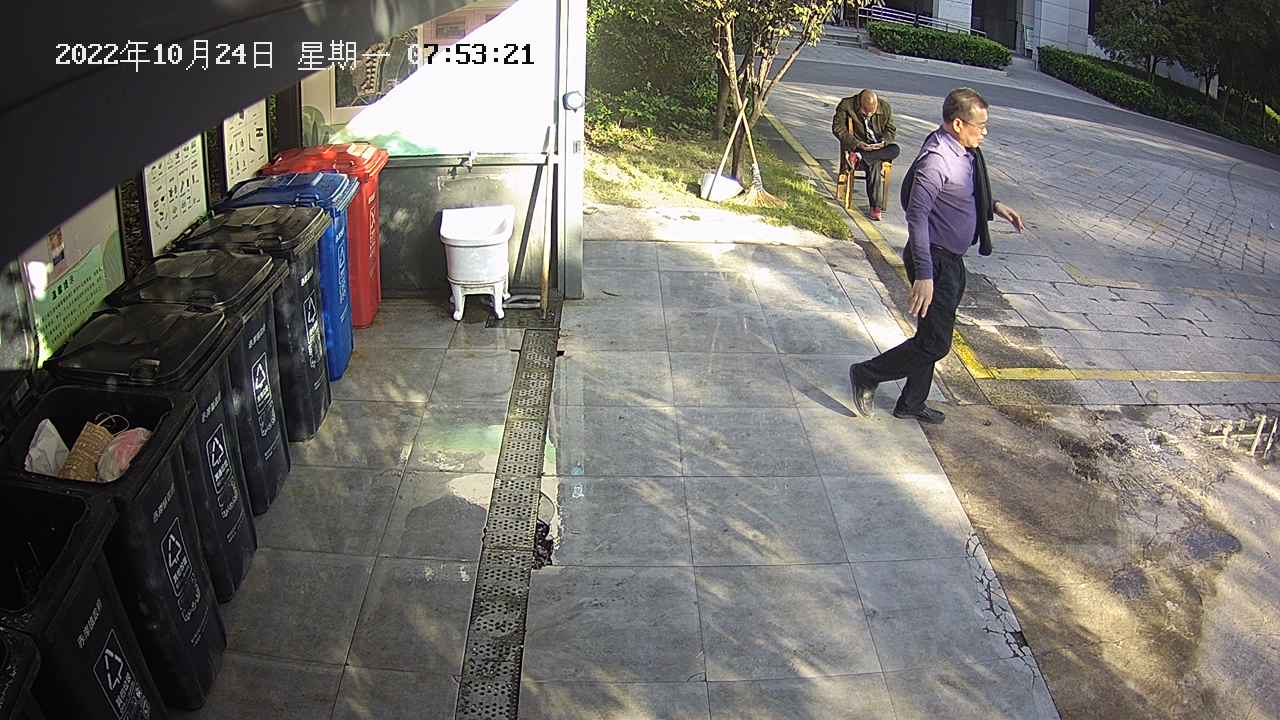person: (843, 82, 1030, 429), (828, 83, 903, 223)
